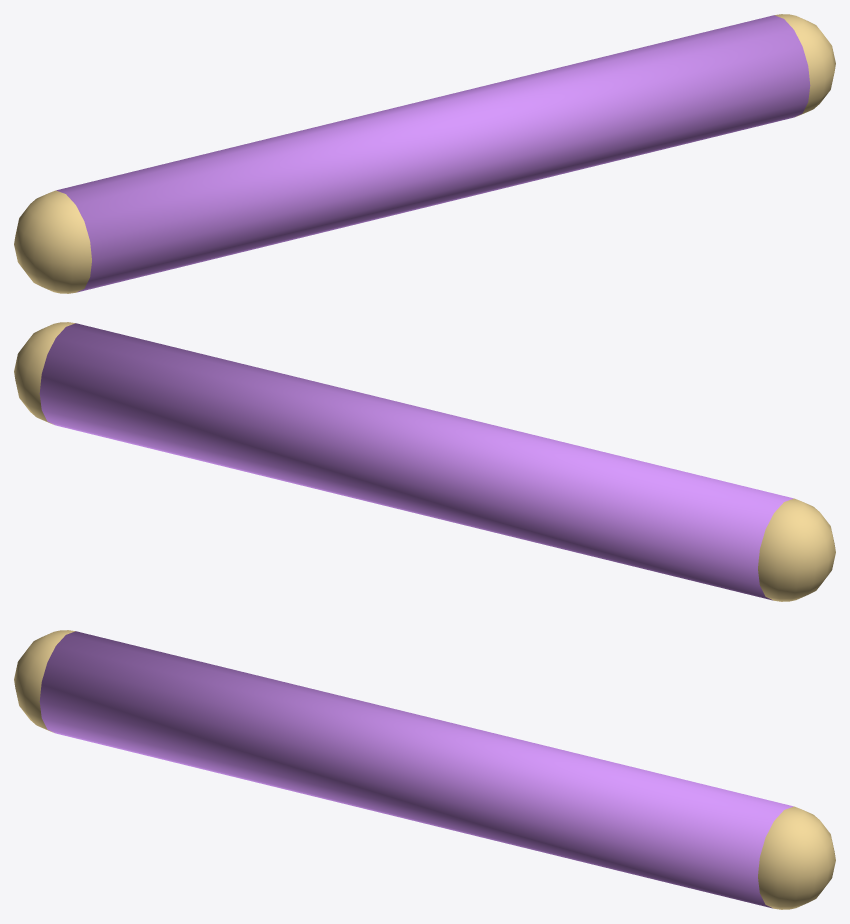
File: pin-r7ASCOIR.glb
3 renders of one model, top to bottom at view 1: azimuth 30°, elevation 25°; view 2: azimuth 150°, elevation 25°; view 3: azimuth 330°, elevation 25°, orthographic.
Visible parts, largest first — view 1: R3D_pin_Body_0, R3D_pin_Tip_0, R3D_pin_Tip_1; view 2: R3D_pin_Body_0, R3D_pin_Tip_0, R3D_pin_Tip_1; view 3: R3D_pin_Body_0, R3D_pin_Tip_1, R3D_pin_Tip_0.
Boxes of the visible parts, x1,y1,x2,y2 form: R3D_pin_Body_0: (56, 15, 810, 292); R3D_pin_Tip_0: (14, 190, 91, 293); R3D_pin_Tip_1: (774, 14, 835, 116); R3D_pin_Body_0: (39, 323, 793, 600); R3D_pin_Tip_0: (758, 498, 835, 601); R3D_pin_Tip_1: (14, 322, 75, 424); R3D_pin_Body_0: (39, 631, 793, 908); R3D_pin_Tip_1: (758, 806, 835, 909); R3D_pin_Tip_0: (14, 630, 75, 732).
Bounding box in the file's own units: 2.14 × 0.24 × 0.24.
